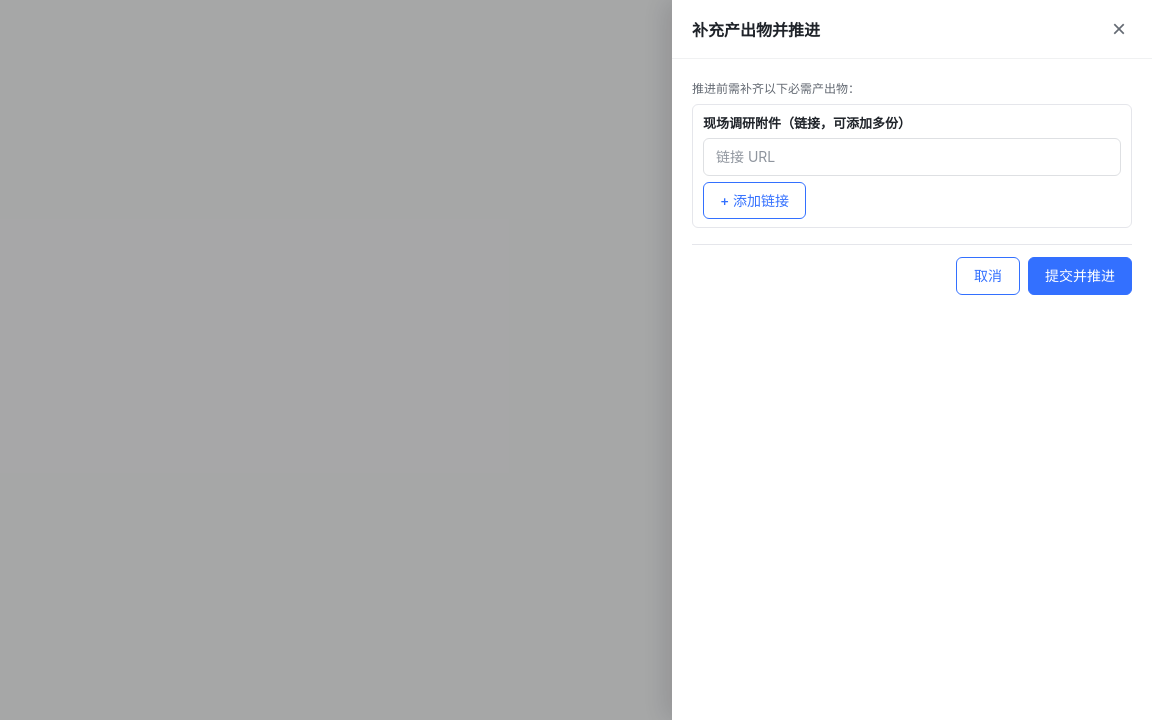
Scenario: ArtifactSupplementDrawer › supports multiple links per artifact (add / remove)
What coordinates should you click on to do the following:
click the button with test id "delivery-supp-addlink-SURVEY_ATTACHMENT"
I would click on:
 (755, 200)
Its box is x1=703 y1=182 x2=806 y2=219.
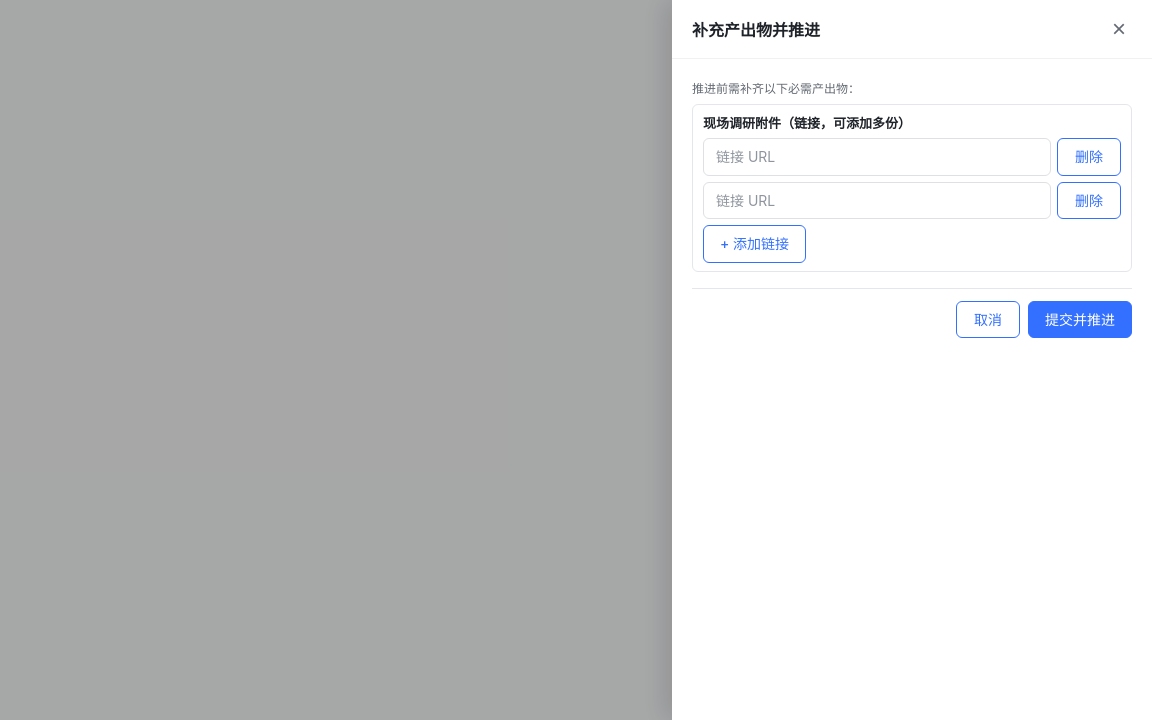
Expected: the field with test id "delivery-supp-link-SURVEY_ATTACHMENT-1" is shown, x1=703 y1=182 x2=1051 y2=219
Note: remove the new one
What coordinates should you click on to do the following:
click the button with test id "delivery-supp-rmlink-SURVEY_ATTACHMENT-1"
I would click on:
 (1089, 200)
Its box is x1=1057 y1=182 x2=1121 y2=219.
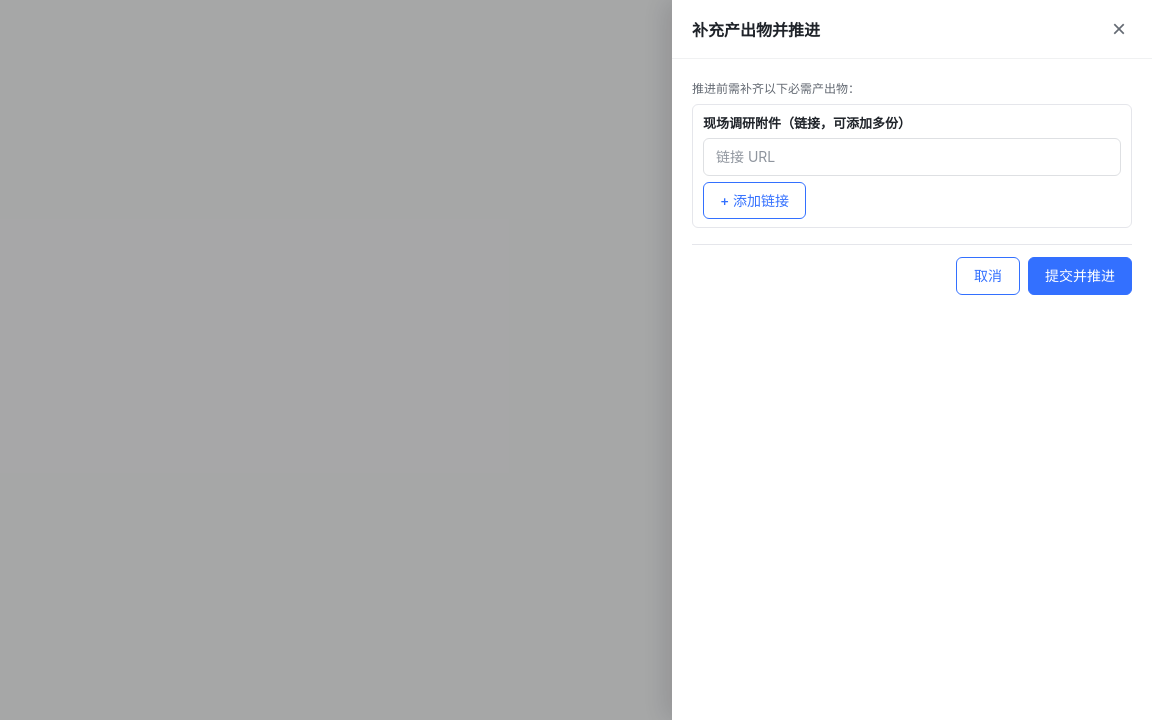
Expected: the field with test id "delivery-supp-link-SURVEY_ATTACHMENT-1" is gone
